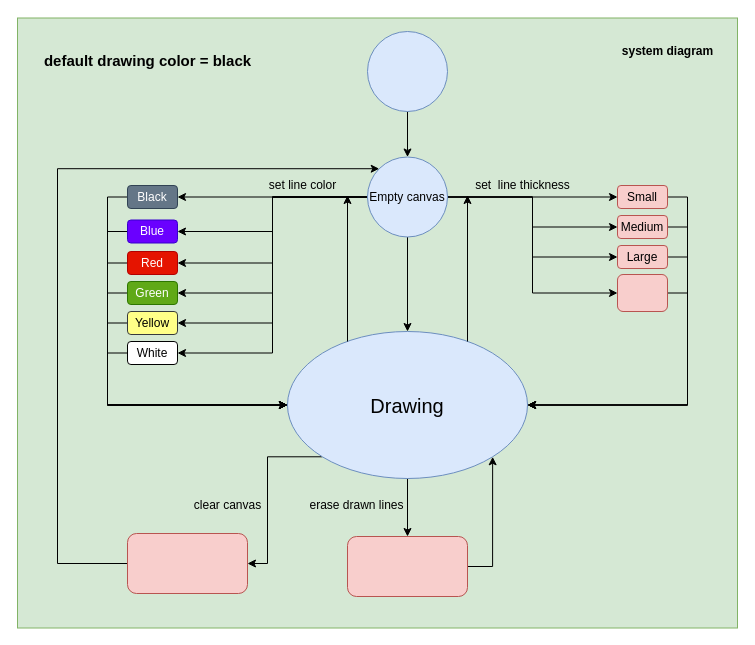
This 755x645 diagram has some shape labels left out. The centre of each missing label's shape, as x and y in pixels:
Clear: point (187, 563)
Erase: point (407, 566)
Extra large: point (642, 293)
Start: point (407, 71)
